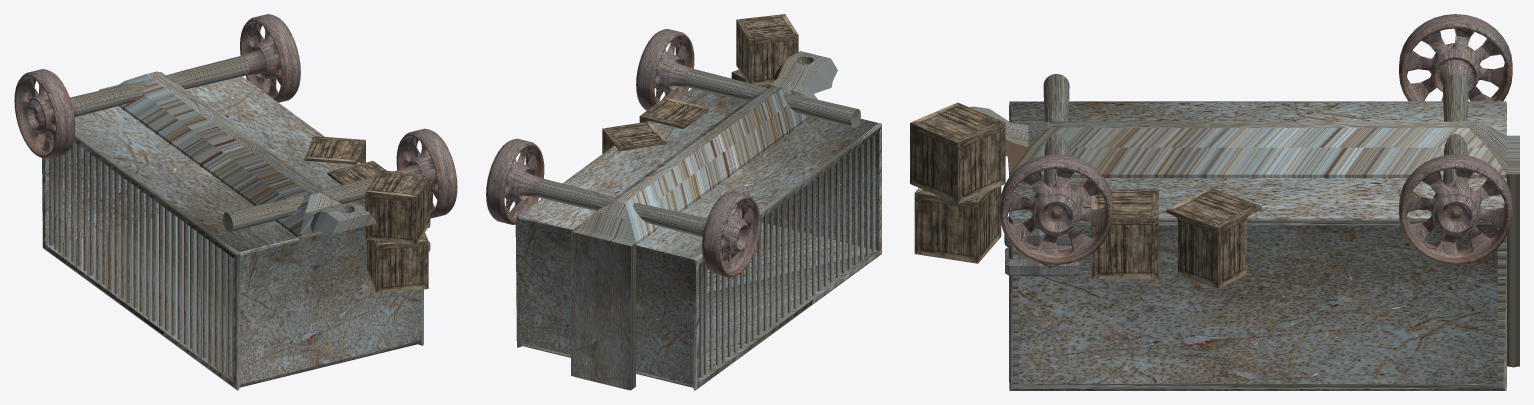
The model's file is Wagon with wheel missing.FBX.
3 renders of one model, left to right at view 1: azimuth 30°, elevation 25°; view 2: azimuth 150°, elevation 25°; view 3: azimuth 270°, elevation 25°, orthographic. The views are drawn at different scales.
Parts seen in each view (by area): view 1: Wagon 021, Box002; view 2: Wagon 021, Box002; view 3: Wagon 021, Box002, Box001.
Part boxes in pixels (x1,y1,x2,y2): Wagon 021: [14, 14, 457, 390]; Box002: [304, 136, 430, 292]; Wagon 021: [486, 29, 881, 390]; Box002: [602, 14, 798, 153]; Wagon 021: [969, 14, 1519, 390]; Box002: [910, 102, 1261, 288]; Box001: [1004, 216, 1078, 276].
Bounding box in the file's own units: 66.55 × 52.53 × 110.
